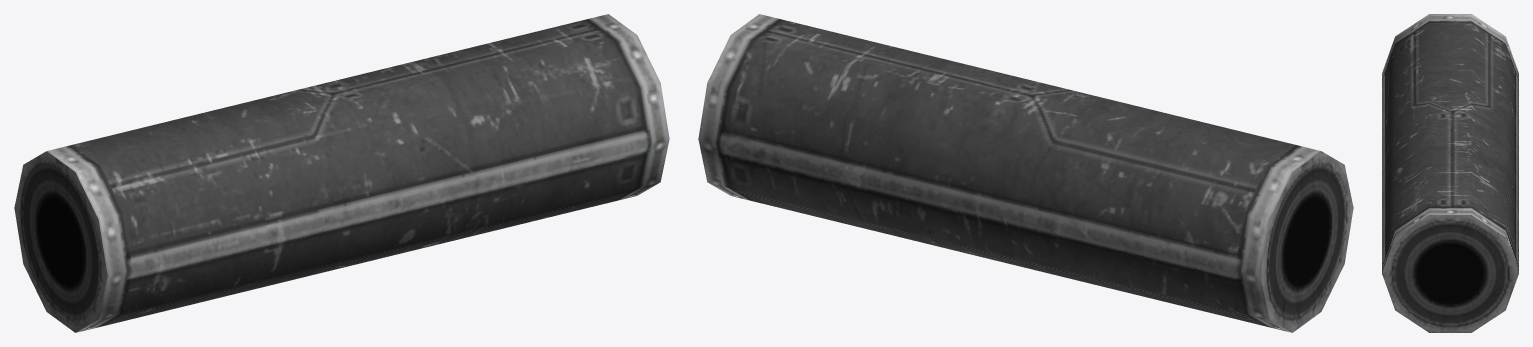
Rendered from lab_straight_short.dae.
3 views of the same model, side by side, from view 1: azimuth 30°, elevation 25°; view 2: azimuth 150°, elevation 25°; view 3: azimuth 270°, elevation 25° (orthographic). The views are drawn at different scales.
Visible parts, largest first — view 1: straight_short; view 2: straight_short; view 3: straight_short.
Boxes of the visible parts, x1=… form: straight_short: x1=14, y1=14, x2=669, y2=332; straight_short: x1=698, y1=14, x2=1353, y2=332; straight_short: x1=1382, y1=14, x2=1518, y2=332.
Size of the model in its own units: 0.5 by 0.1367 by 0.1437.
